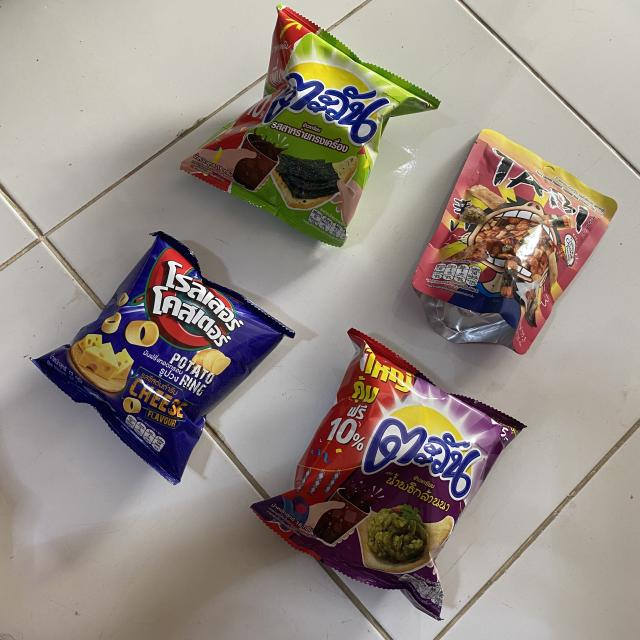plastik: (254, 329, 524, 620), (32, 231, 295, 484), (181, 5, 439, 246), (412, 129, 618, 354)
